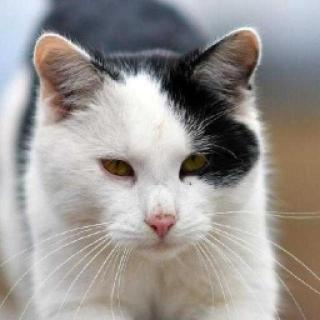cat: (27, 27, 265, 266)
nose: (144, 188, 174, 242)
